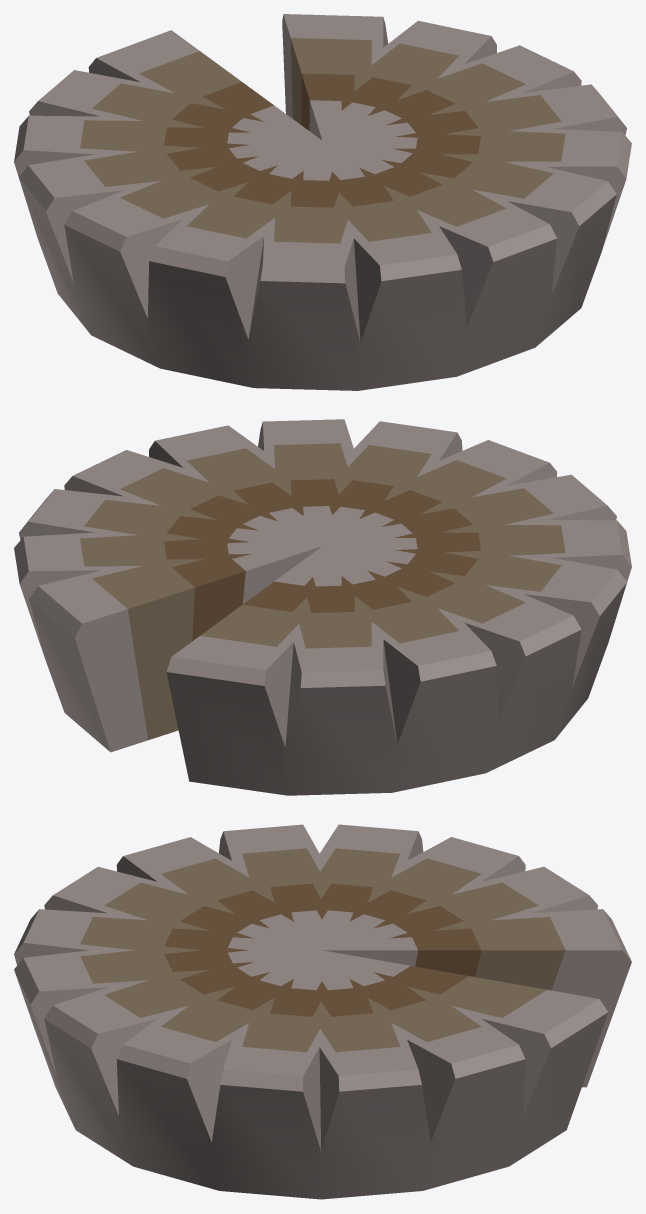
File: SM_VolcanicFlats_SulphuricHorseshoe_Var2.fbx
3 views of the same model, one above another, from view 1: azimuth 30°, elevation 25°; view 2: azimuth 150°, elevation 25°; view 3: azimuth 270°, elevation 25° (orthographic).
Parts seen in each view (by area): view 1: Cylinder.007; view 2: Cylinder.007; view 3: Cylinder.007.
Boxes of the visible parts, x1,y1,x2,y2 form: Cylinder.007: [14, 14, 631, 390]; Cylinder.007: [14, 419, 631, 795]; Cylinder.007: [14, 824, 631, 1199].
Size of the model in its own units: 231 by 56.84 by 233.
